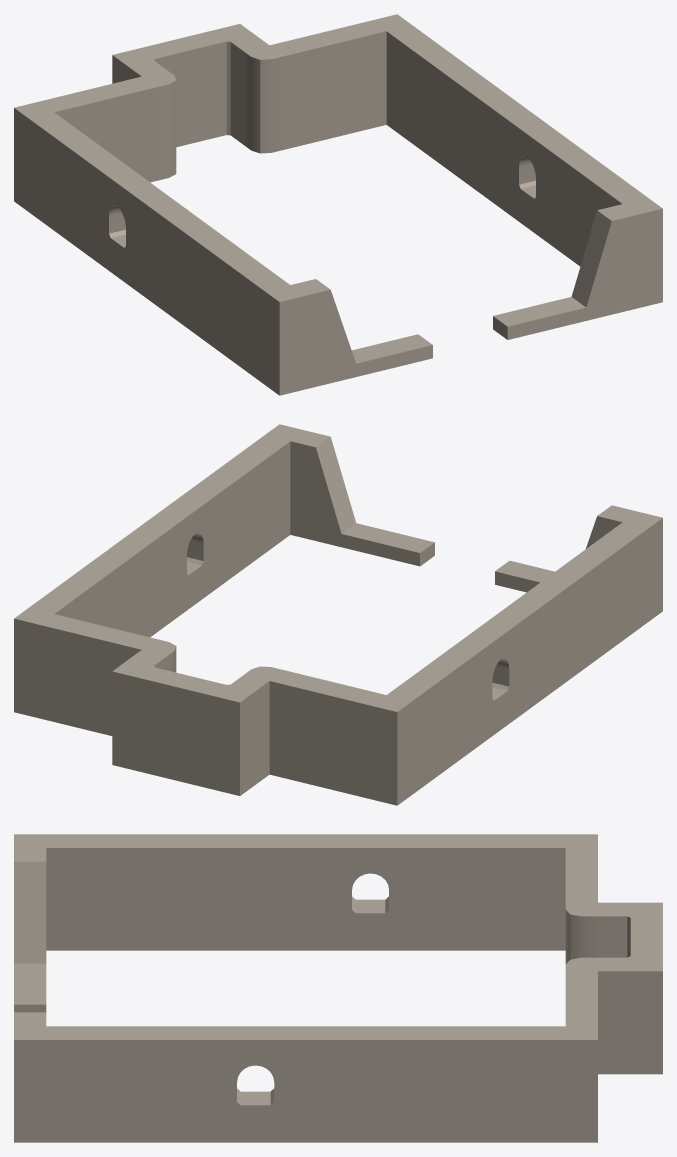
The model's file is SM_Walls.fbx.
3 views of the same model, one above another, from view 1: azimuth 30°, elevation 25°; view 2: azimuth 150°, elevation 25°; view 3: azimuth 270°, elevation 25° (orthographic). The views are drawn at different scales.
Visible parts, largest first — view 1: polySurface25; view 2: polySurface25; view 3: polySurface25.
Part boxes in pixels (x1,y1,x2,y2): polySurface25: (14, 14, 662, 395); polySurface25: (14, 424, 662, 805); polySurface25: (14, 834, 662, 1142).
Bounding box in the file's own units: 1500 × 350 × 2000.
